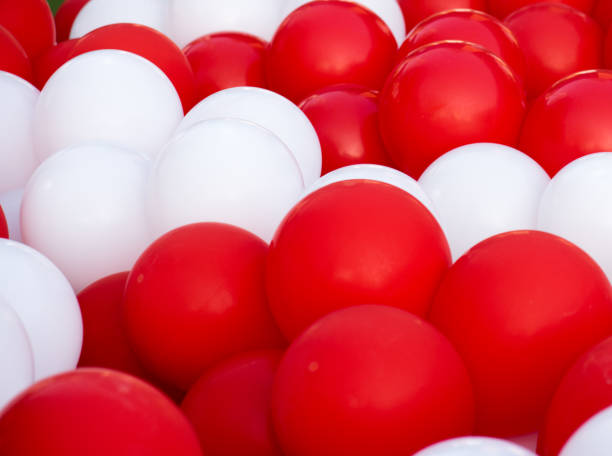Balloon: (438, 230, 612, 414), (268, 308, 476, 456), (263, 177, 450, 314), (121, 222, 264, 359), (375, 37, 527, 152), (21, 143, 151, 267), (151, 127, 298, 229), (264, 3, 396, 91), (526, 70, 612, 162)
